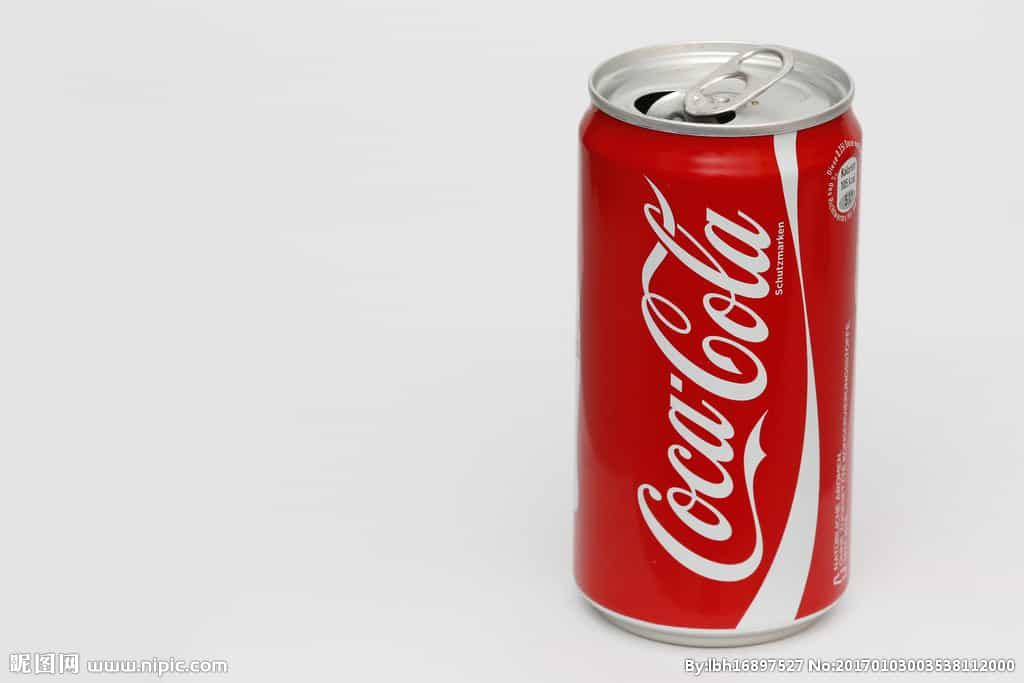cans: (561, 29, 872, 654)
